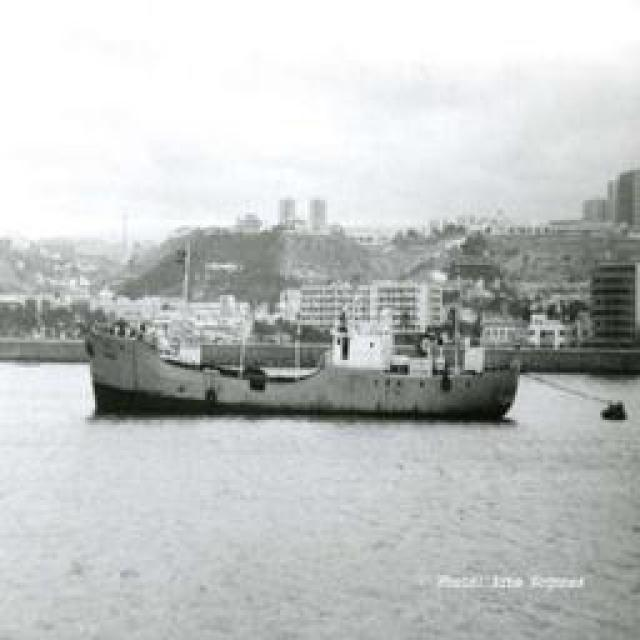Ship: (85, 315, 518, 423)
